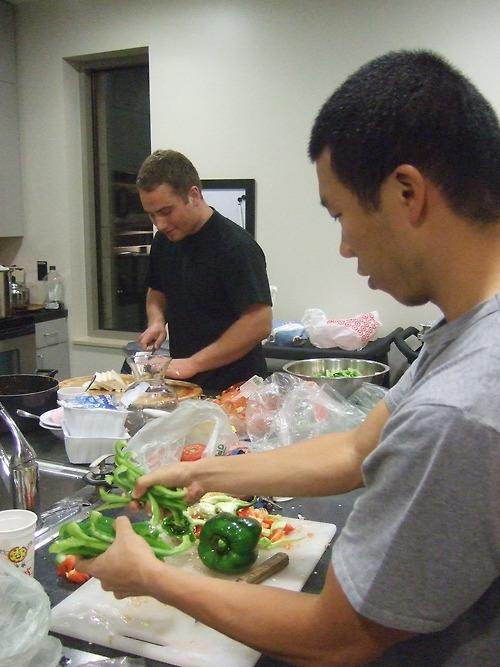person: (137, 148, 273, 403)
